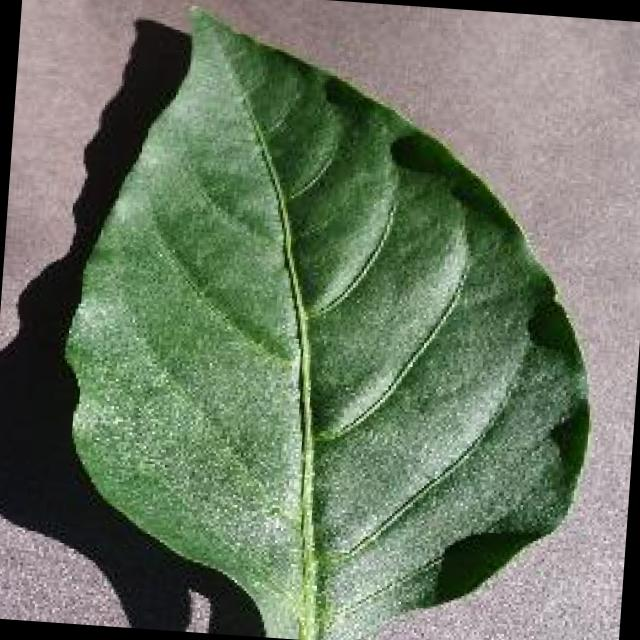Chilli_Healthy: (41, 0, 618, 640)
